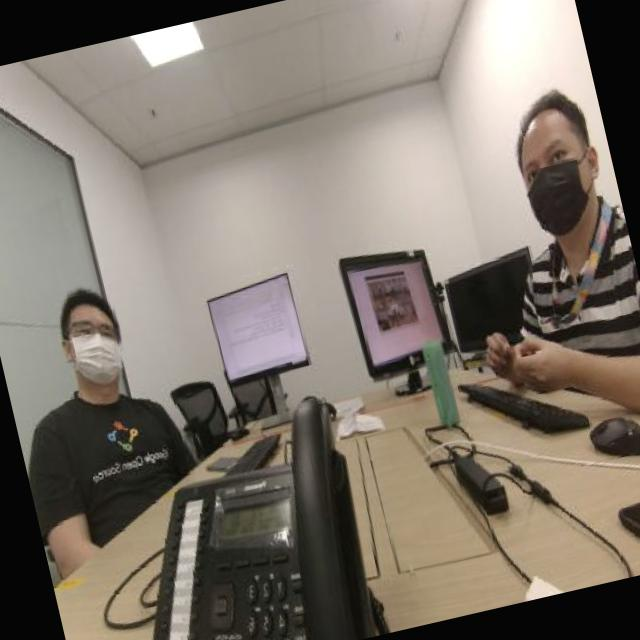Person: (446, 63, 640, 389), (3, 252, 214, 525)
